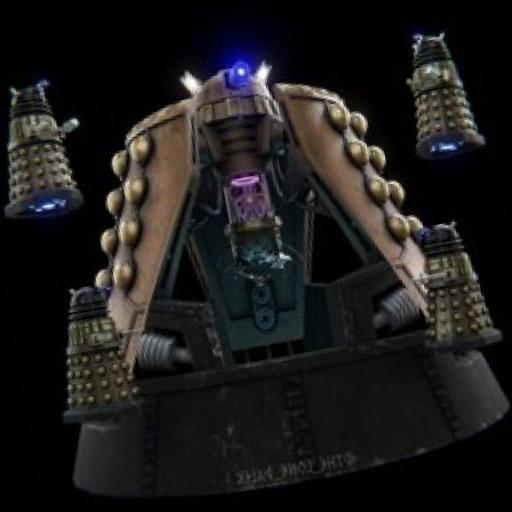dalek: (3, 21, 512, 512), (36, 274, 162, 432), (386, 15, 490, 166), (401, 212, 502, 358), (0, 70, 95, 221)
